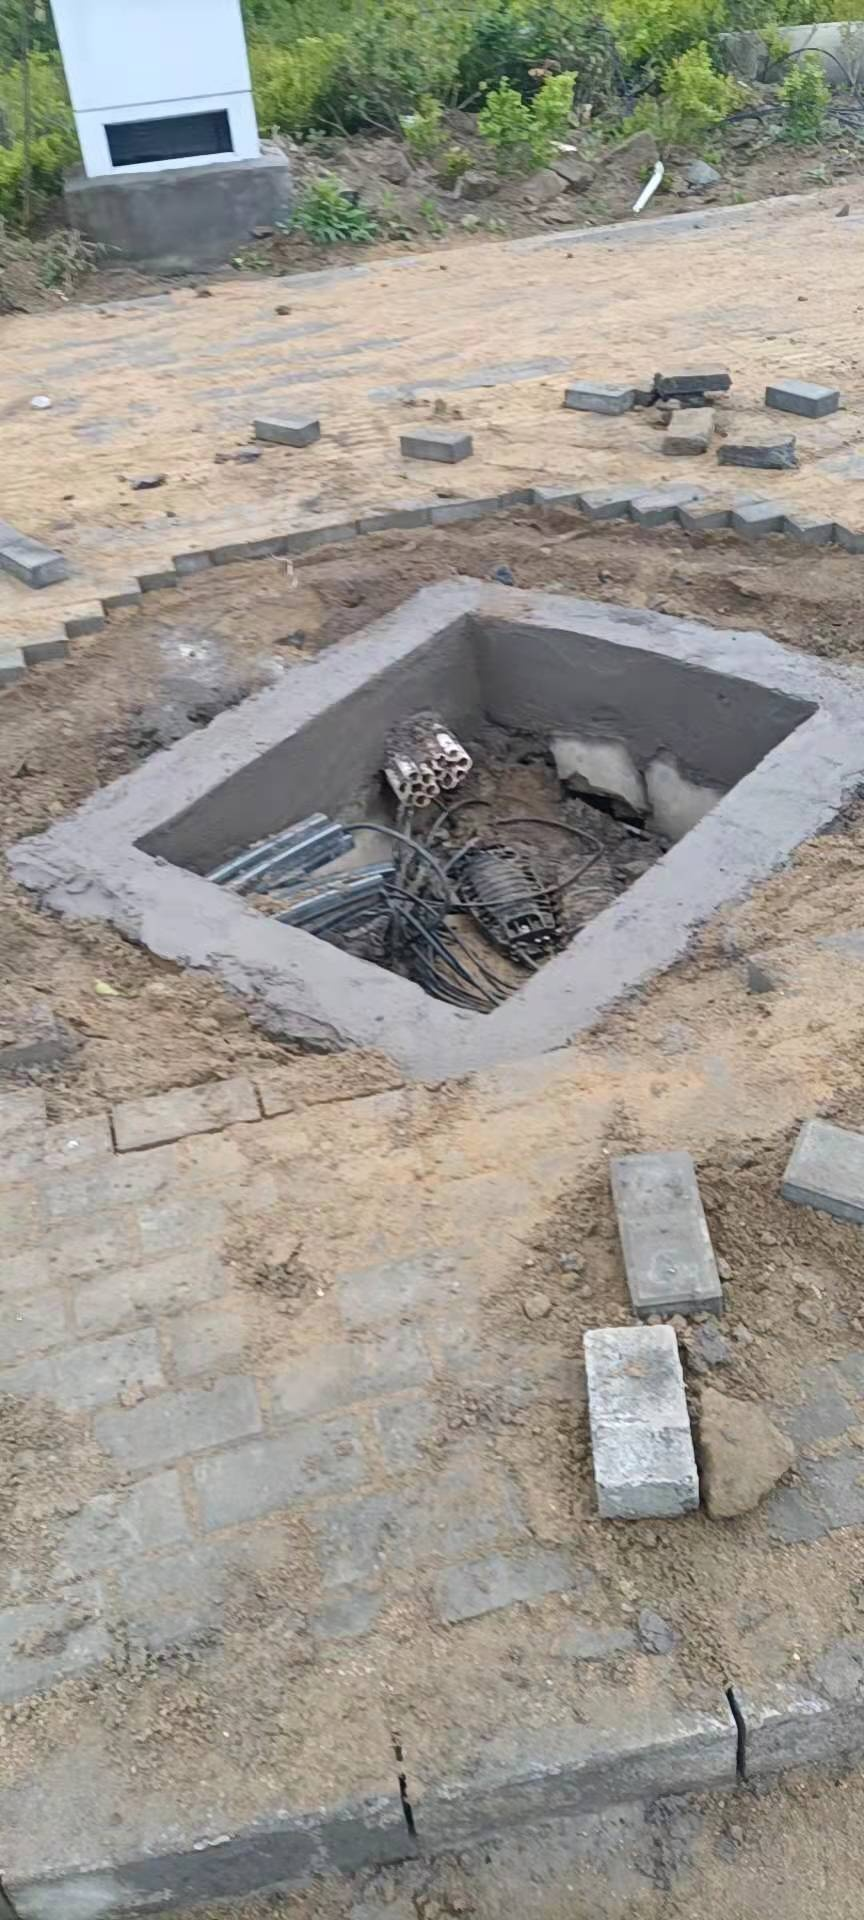well: (84, 576, 849, 1068)
